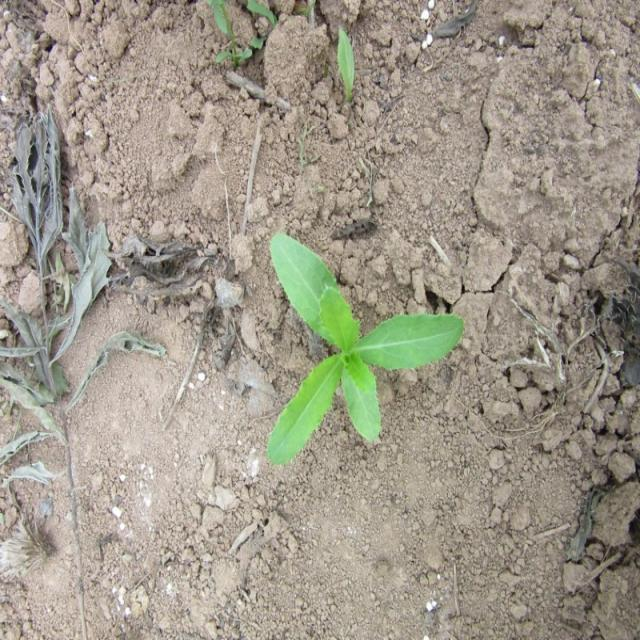cs: (264, 226, 465, 469)
